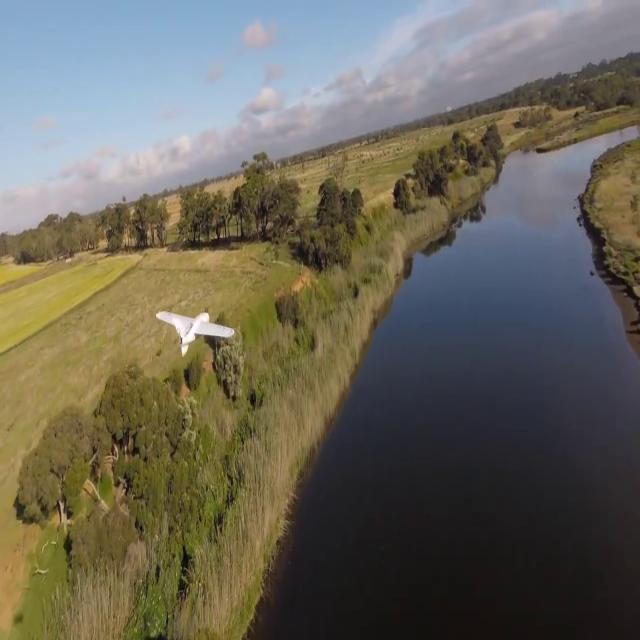iha: (186, 304, 206, 344)
